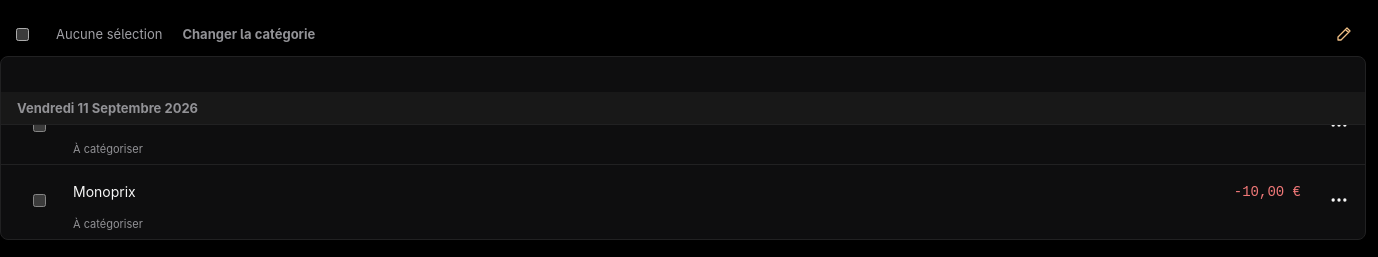
Test: bulk selection › offers a labelled checkbox per row and a select-all with a counter
Check: the text "Aucune sélection" is shown, box [56,26,162,42]
Click the checkbox named "Sélectionner Carrefour" at (40, 125), box [33,118,46,132]
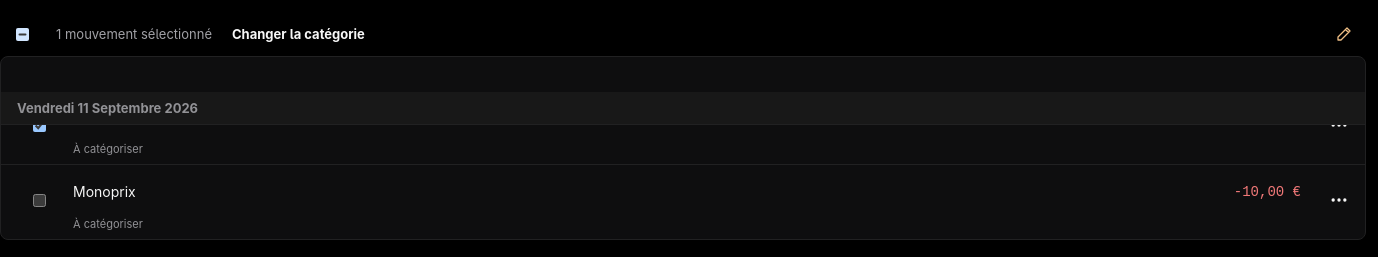
Check: the text "1 mouvement sélectionné" is shown, box [56,26,212,42]
Click the checkbox named "Sélectionner les mouvements chargés" at (22, 34), box [16,28,29,40]
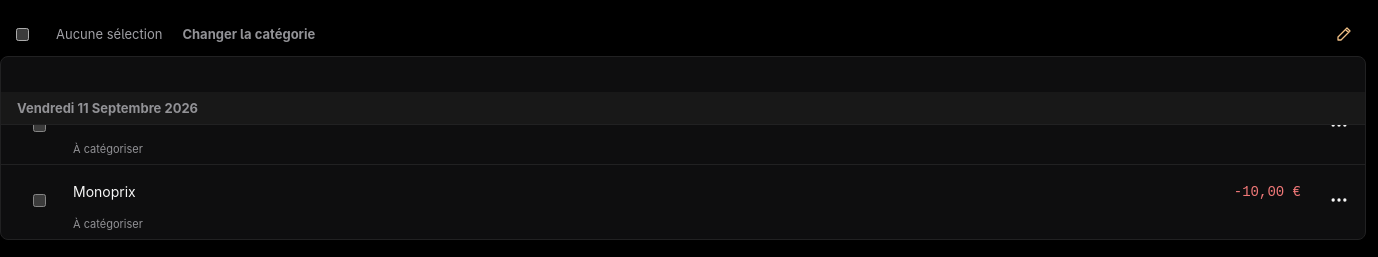
Check: the text "Aucune sélection" is shown, box [56,26,162,42]
Click the checkbox named "Sélectionner les mouvements chargés" at (22, 34), box [16,28,29,40]
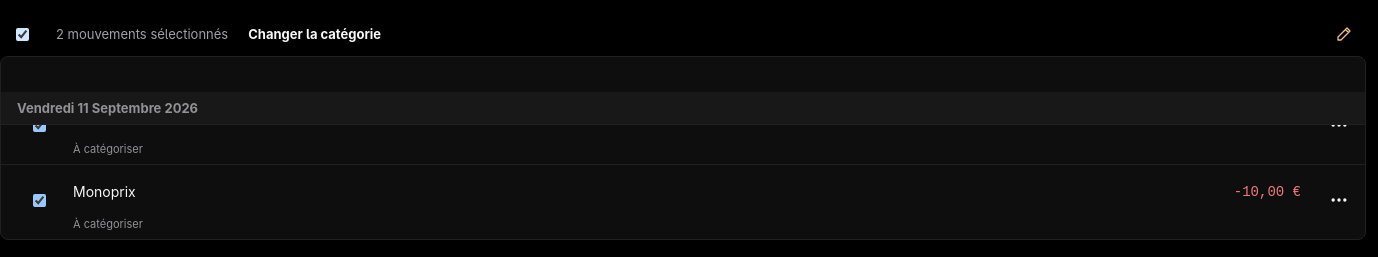
Check: the text "2 mouvements sélectionnés" is shown, box [56,26,228,42]
Check: the checkbox named "Sélectionner Monoprix" is checked, box [33,194,46,206]
Click the checkbox named "Sélectionner les mouvements chargés" at (22, 34), box [16,28,29,40]
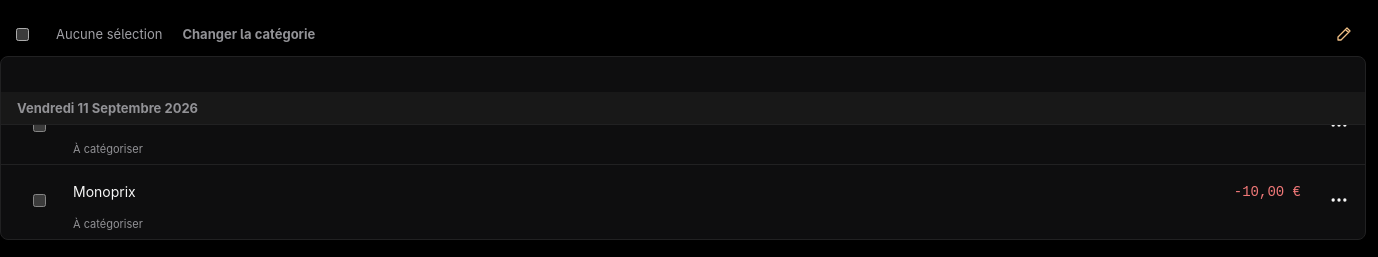
Check: the text "Aucune sélection" is shown, box [56,26,162,42]
